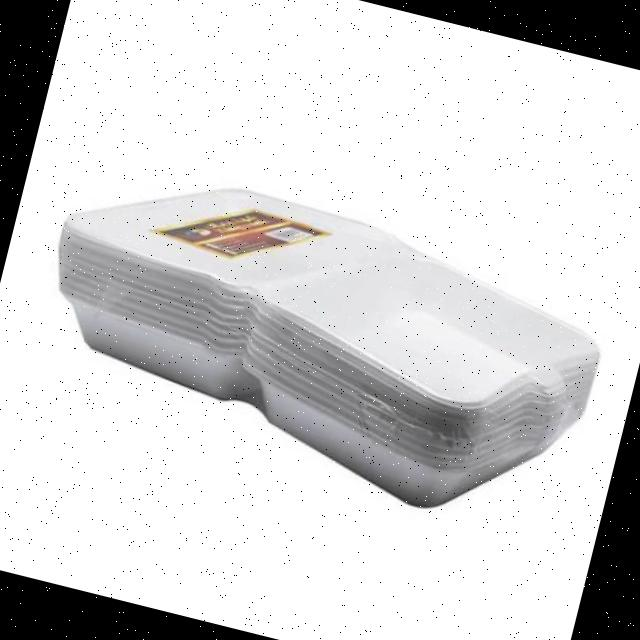styrofoam: (14, 143, 620, 542)
